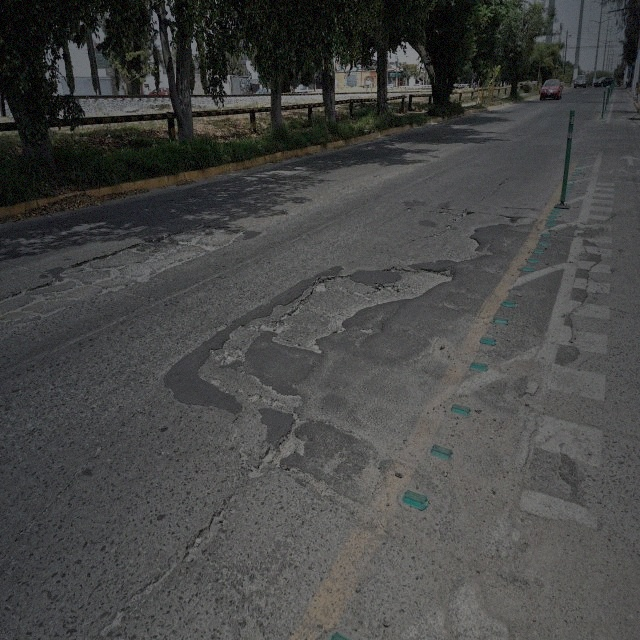pothole: (220, 262, 454, 370), (199, 347, 298, 417), (190, 502, 229, 560), (252, 441, 275, 477), (460, 206, 472, 217)
